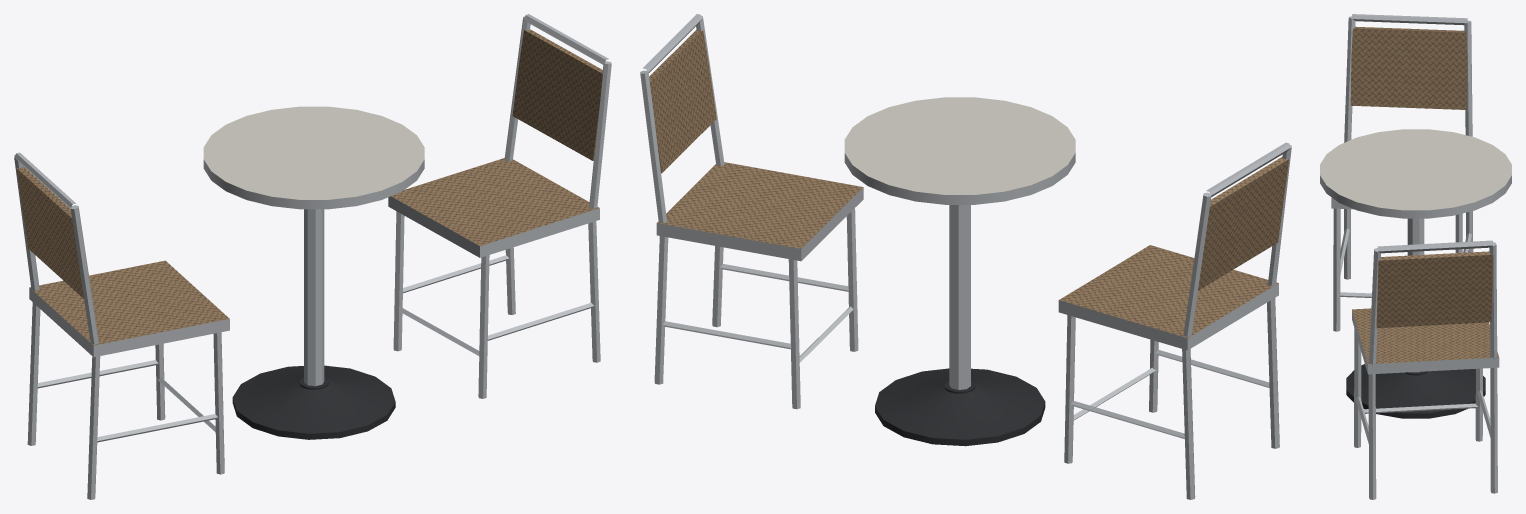
The model's file is cafe_set.glb.
3 renders of one model, left to right at view 1: azimuth 30°, elevation 25°; view 2: azimuth 150°, elevation 25°; view 3: azimuth 270°, elevation 25°, orthographic. The views are drawn at different scales.
Visible parts, largest first — view 1: cafe_set; view 2: cafe_set; view 3: cafe_set.
Part boxes in pixels (x1=…): cafe_set: x1=14, y1=14, x2=611, y2=499; cafe_set: x1=640, y1=14, x2=1291, y2=499; cafe_set: x1=1320, y1=14, x2=1511, y2=499.
Bounding box in the file's own units: 1.73 × 0.8799 × 0.5949.
4 materials, 1 textured.
